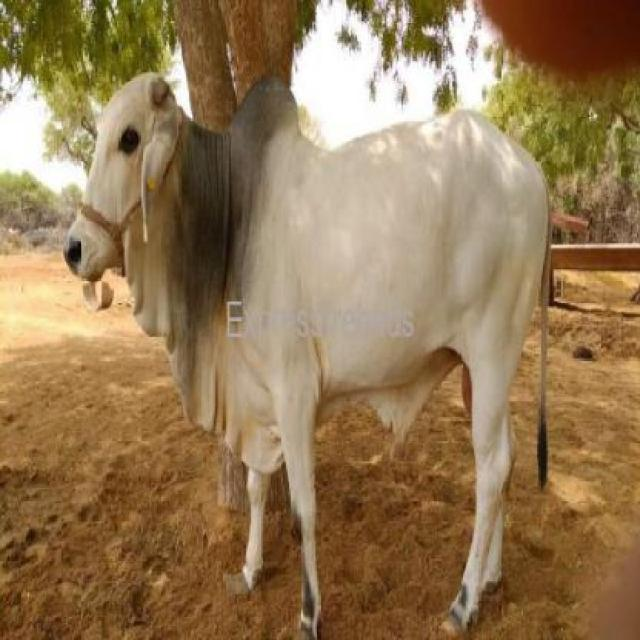Cow: (63, 61, 560, 638)
